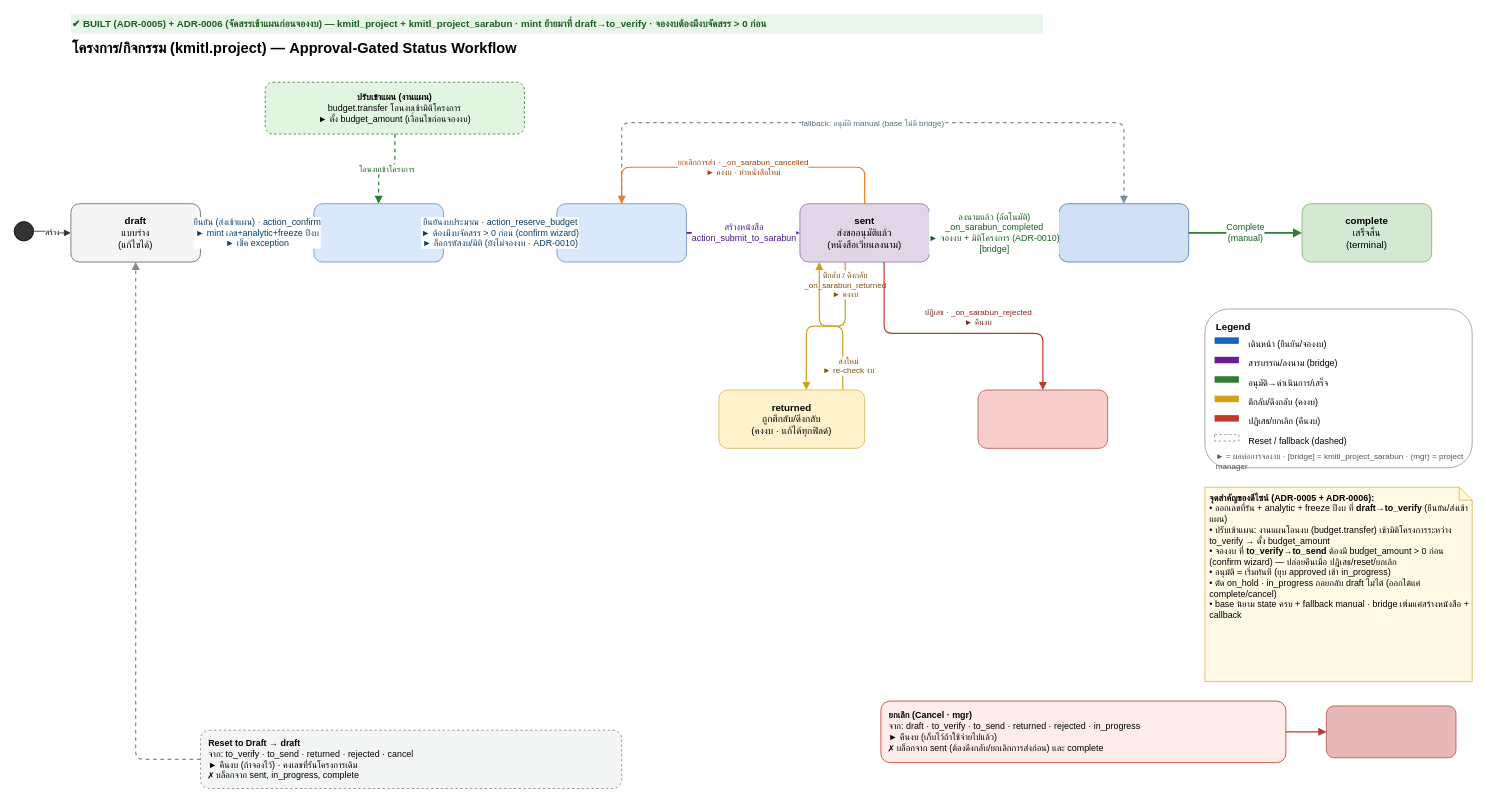
Image size: 1486x803. Some labels were removed from this diagram. Each missing label, with the box of its shape:
cancel ยกเลิก: (1326, 705, 1456, 758)
in_progress กำลังดำเนินการ (สั่งซื้อ/เบิกได้): (1058, 203, 1189, 262)
rejected ถูกปฏิเสธ (คืนงบ): (977, 389, 1108, 448)
to_send รอส่งขออนุมัติ จัดโครงการฯ: (556, 203, 686, 262)
to_verify รอจัดสรรงบ (ปรับเข้าแผน): (313, 203, 443, 262)
